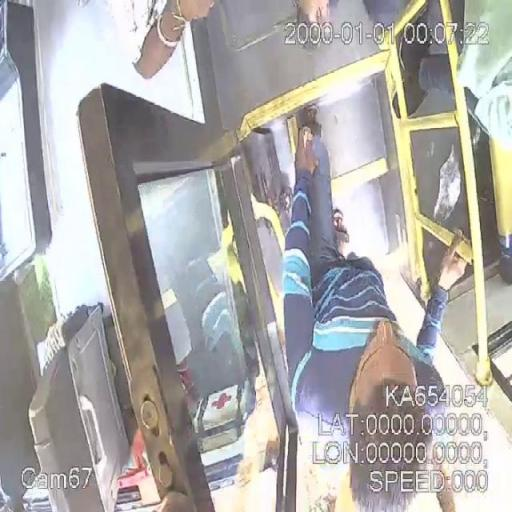persona: (280, 124, 472, 510), (131, 0, 216, 80)
